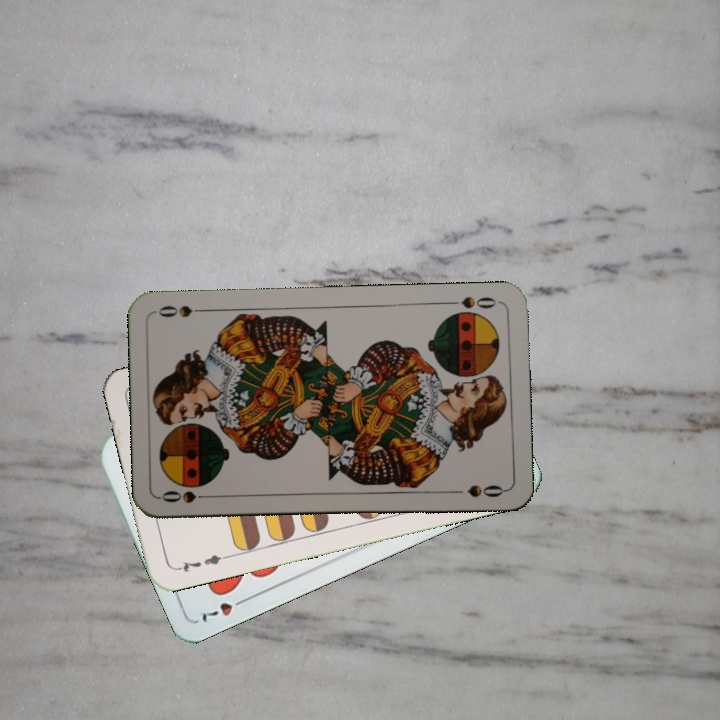E7: (172, 550, 230, 575)
H7: (197, 593, 251, 625)
SO: (157, 486, 217, 505), (443, 292, 502, 311)
